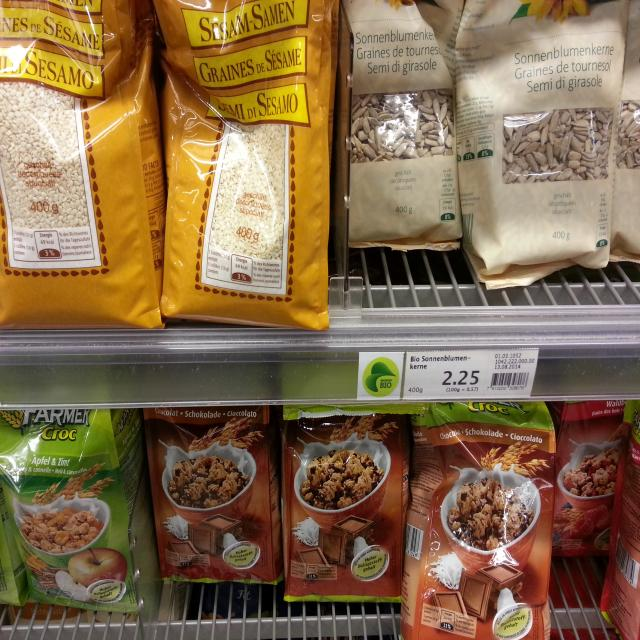Cereals: (153, 0, 339, 332), (0, 0, 162, 329), (457, 0, 628, 289), (403, 402, 556, 640), (339, 0, 463, 249), (0, 406, 148, 614), (284, 406, 407, 602), (147, 405, 281, 584), (554, 400, 628, 561)
